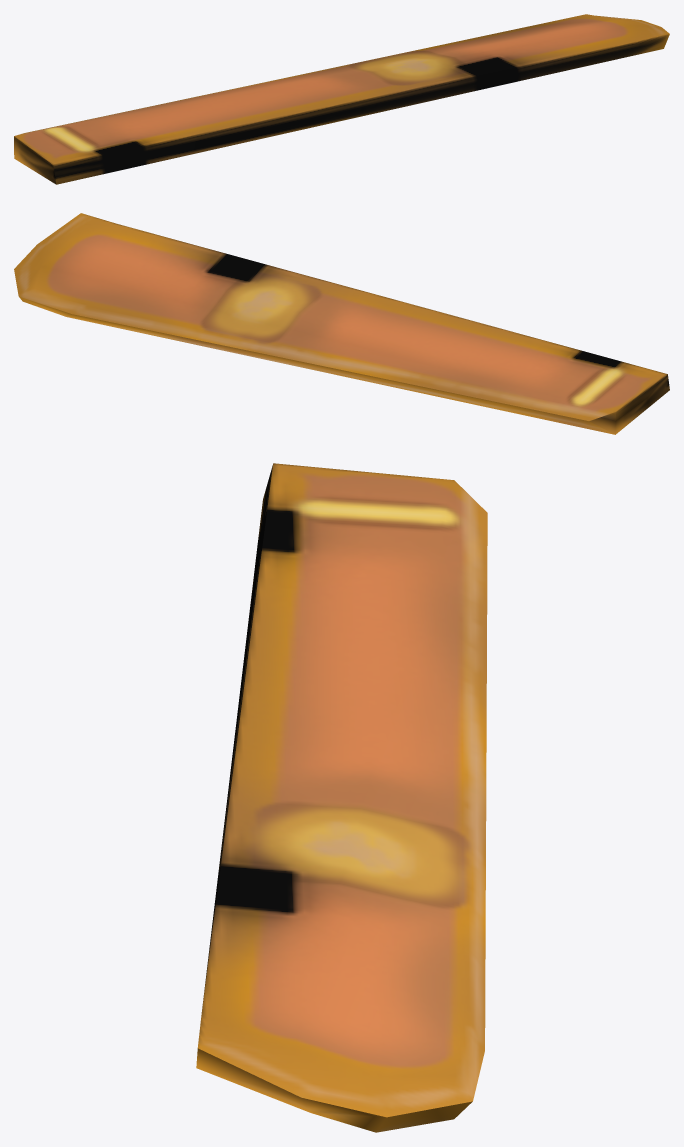
File: plane_flap_L.dae
The picture shows the model from 3 angles, top to bottom: view 1: azimuth 30°, elevation 25°; view 2: azimuth 150°, elevation 25°; view 3: azimuth 270°, elevation 25°; orthographic projection. The views are drawn at different scales.
Visible parts, largest first — view 1: Plane.001; view 2: Plane.001; view 3: Plane.001.
Boxes of the visible parts, bbox=[...] form: Plane.001: bbox=[14, 14, 669, 184]; Plane.001: bbox=[14, 213, 669, 434]; Plane.001: bbox=[196, 463, 487, 1132].
Bounding box in the file's own units: 1.54 × 0.3156 × 0.0985.
Materials: 1 (1 with a texture image).
